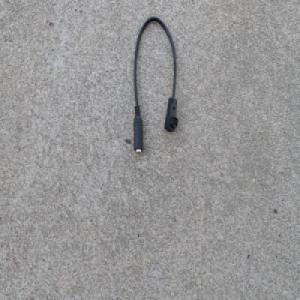Wire: (131, 14, 179, 157)
